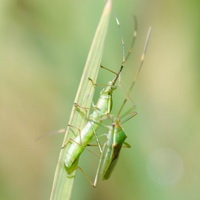insect: (50, 0, 150, 199)
